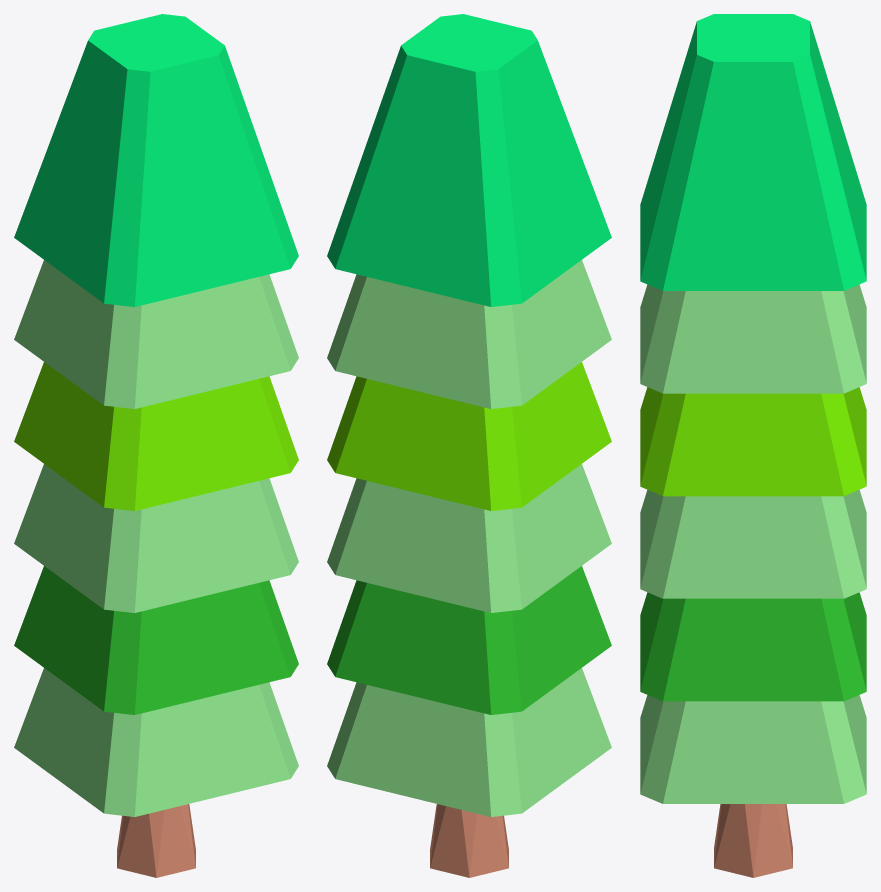
Rendered from popsicle_tree_small.fbx.
The picture shows the model from 3 angles, left to right: view 1: azimuth 30°, elevation 25°; view 2: azimuth 150°, elevation 25°; view 3: azimuth 270°, elevation 25°; orthographic projection.
Visible parts, largest first — view 1: G-Object.004, G-Object.003, G-Object.005, G-Object.006, G-Object.007, G-Object.002, G-Object.001; view 2: G-Object.004, G-Object.003, G-Object.005, G-Object.006, G-Object.002, G-Object.007, G-Object.001; view 3: G-Object.004, G-Object.007, G-Object.006, G-Object.003, G-Object.005, G-Object.002, G-Object.001.
Part boxes in pixels (x1=…): G-Object.004: x1=14, y1=14, x2=298, y2=306; G-Object.003: x1=14, y1=260, x2=298, y2=408; G-Object.005: x1=14, y1=464, x2=298, y2=612; G-Object.006: x1=14, y1=362, x2=298, y2=510; G-Object.007: x1=14, y1=566, x2=298, y2=714; G-Object.002: x1=14, y1=668, x2=298, y2=816; G-Object.001: x1=117, y1=804, x2=195, y2=877; G-Object.004: x1=327, y1=14, x2=611, y2=306; G-Object.003: x1=327, y1=260, x2=611, y2=408; G-Object.005: x1=327, y1=464, x2=611, y2=612; G-Object.006: x1=327, y1=362, x2=611, y2=510; G-Object.002: x1=327, y1=668, x2=611, y2=816; G-Object.007: x1=327, y1=566, x2=611, y2=714; G-Object.001: x1=430, y1=804, x2=508, y2=877; G-Object.004: x1=640, y1=14, x2=866, y2=290; G-Object.007: x1=640, y1=592, x2=866, y2=701; G-Object.006: x1=640, y1=387, x2=866, y2=496; G-Object.003: x1=640, y1=284, x2=866, y2=393; G-Object.005: x1=640, y1=490, x2=866, y2=598; G-Object.002: x1=640, y1=695, x2=866, y2=803; G-Object.001: x1=714, y1=804, x2=792, y2=877.
Bounding box in the file's own units: 200 × 800 × 200.
